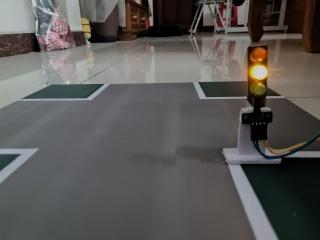yellow: (233, 35, 286, 109)
